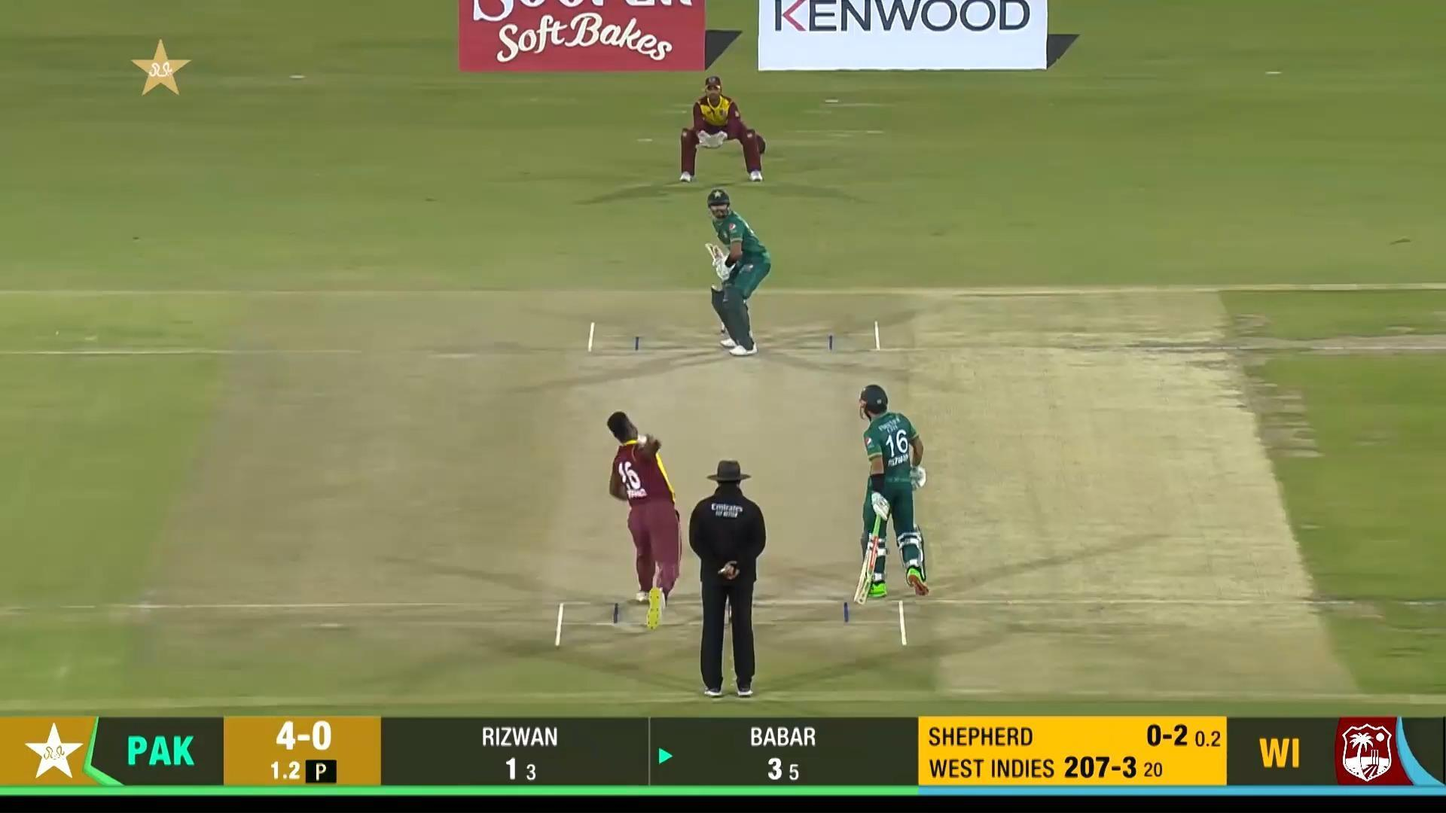BM 1: (704, 189, 772, 357)
BO: (606, 409, 683, 631)
